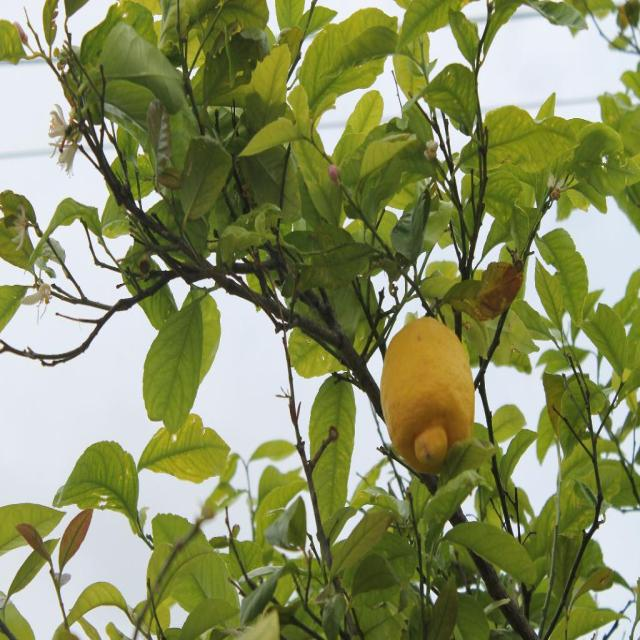Lemon: (382, 315, 473, 474)
